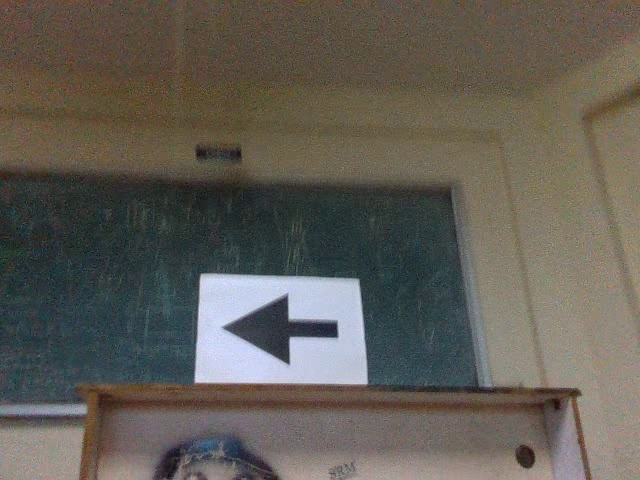Left: (218, 290, 344, 369)
